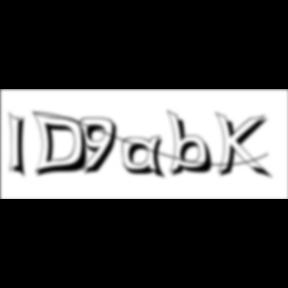9: (78, 117, 124, 177)
D: (32, 110, 94, 180)
I: (9, 110, 33, 182)
K: (216, 110, 274, 182)
a: (123, 135, 171, 182)
b: (166, 109, 219, 179)
